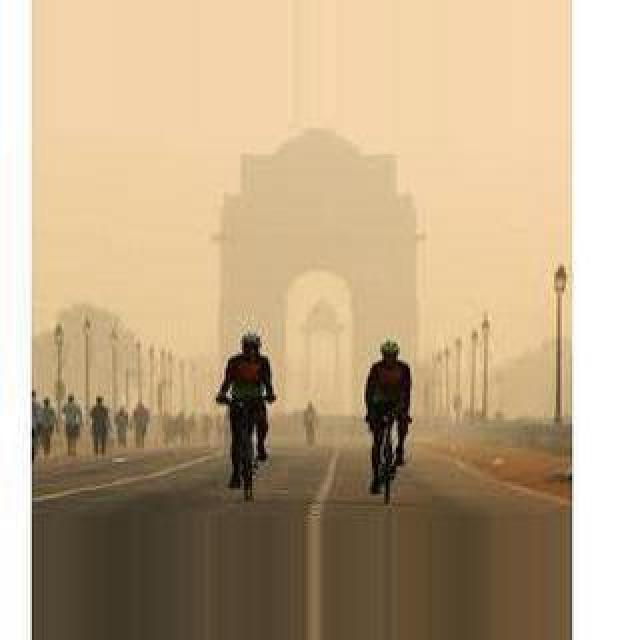MC-Bike: (216, 330, 276, 406), (362, 342, 410, 422), (62, 394, 84, 460), (88, 394, 110, 458), (38, 396, 56, 460), (132, 398, 150, 448), (114, 400, 130, 450)
Person: (370, 410, 406, 502), (228, 402, 258, 500)
